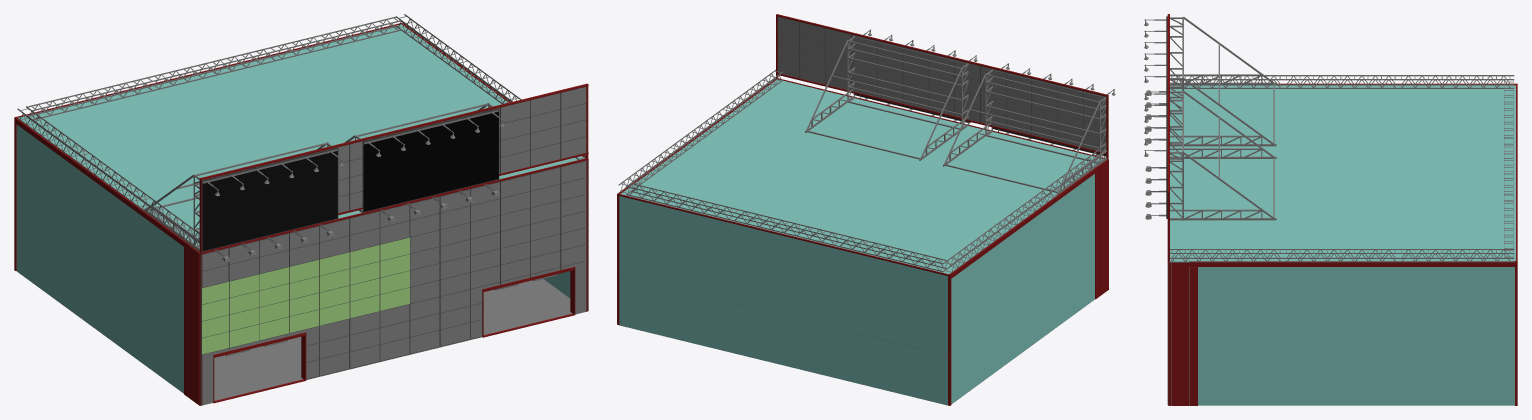
File: SM_building_metro.fbx
3 views of the same model, side by side, from view 1: azimuth 30°, elevation 25°; view 2: azimuth 150°, elevation 25°; view 3: azimuth 270°, elevation 25° (orthographic). The views are drawn at different scales.
Parts seen in each view (by area): view 1: Box597; view 2: Box597; view 3: Box597.
Boxes of the visible parts, <box> form: Box597: <box>14,14,588,405</box>; Box597: <box>617,14,1115,405</box>; Box597: <box>1144,14,1517,405</box>.
Size of the model in its own units: 1223 by 684 by 1081.
